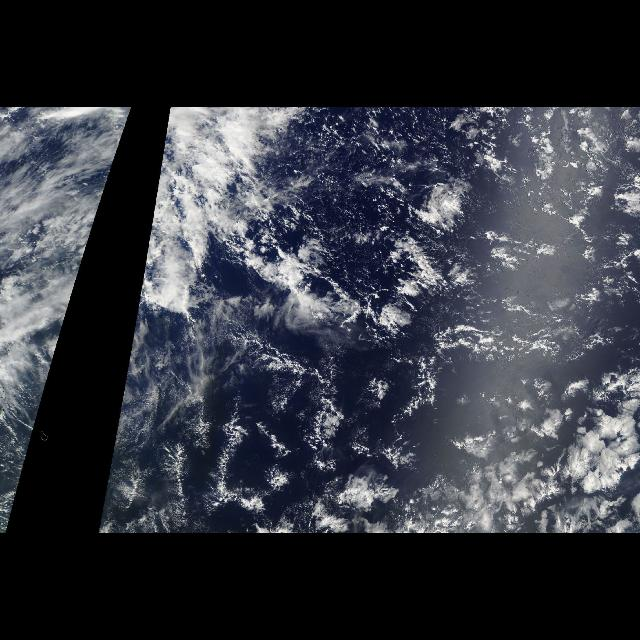Flower: (417, 319, 635, 531)
Sugar: (132, 321, 404, 517)
